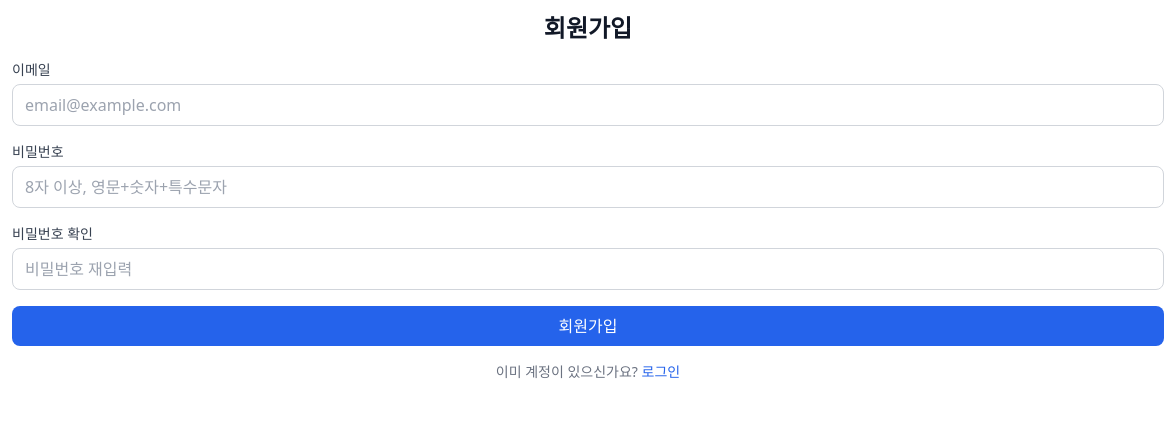
SignupPage › shows error when password too short
Type "test@test.com" into the field with test id "signup-email-input" at (588, 105), box [12,84,1164,126]
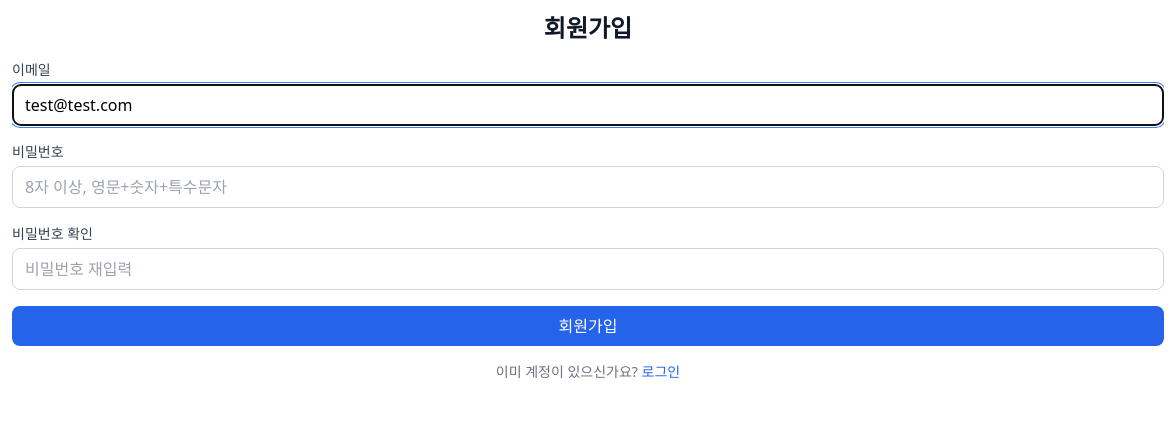
Type "short" into the password field with test id "signup-password-input" at (588, 187), box [12,166,1164,208]
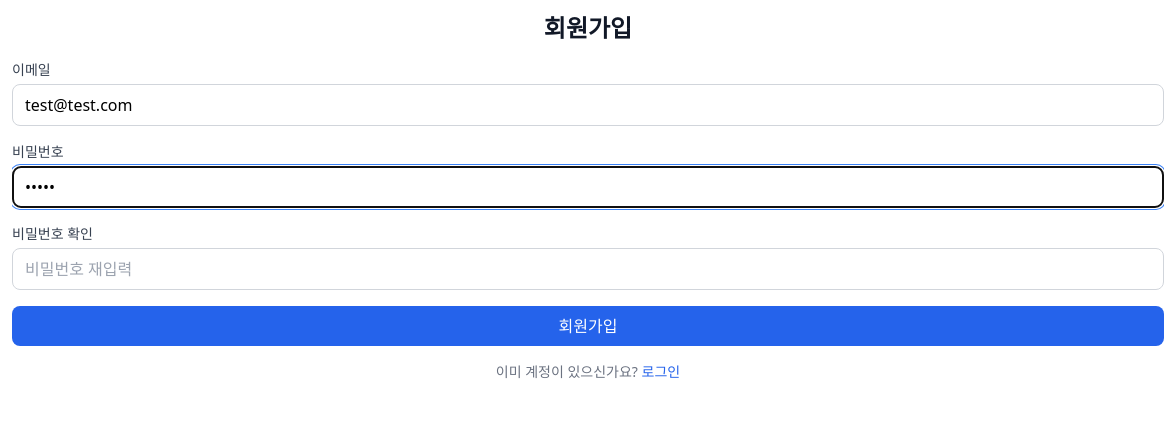
Type "short" into the password field with test id "signup-confirm-password-input" at (588, 269), box [12,248,1164,290]
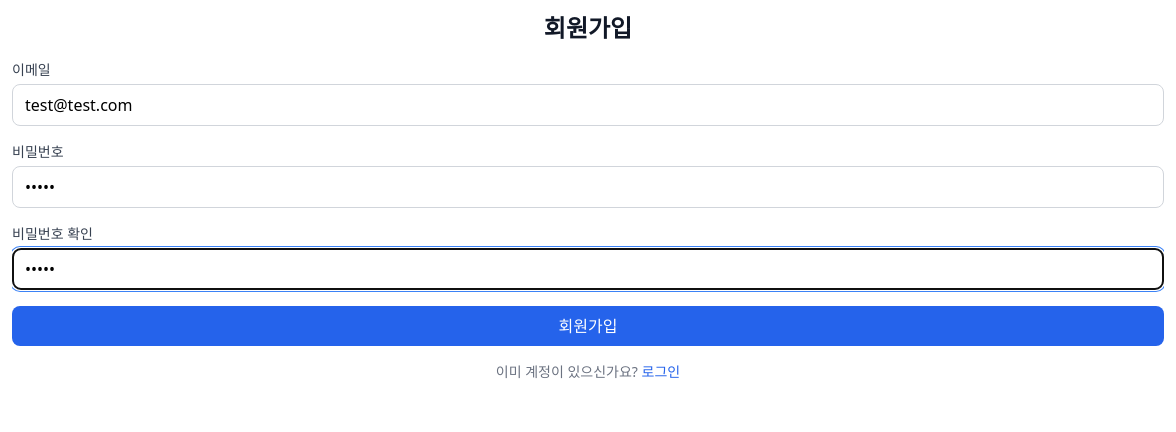
Click the button with test id "signup-submit-button" at (588, 326), box [12,306,1164,346]
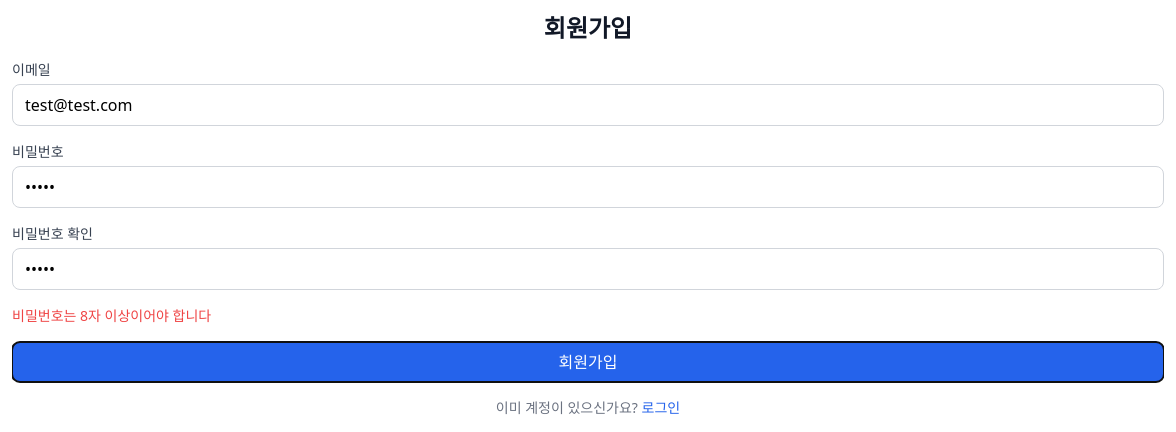
Check: the text "비밀번호는 8자 이상이어야 합니다" is shown, box [12,306,211,325]
